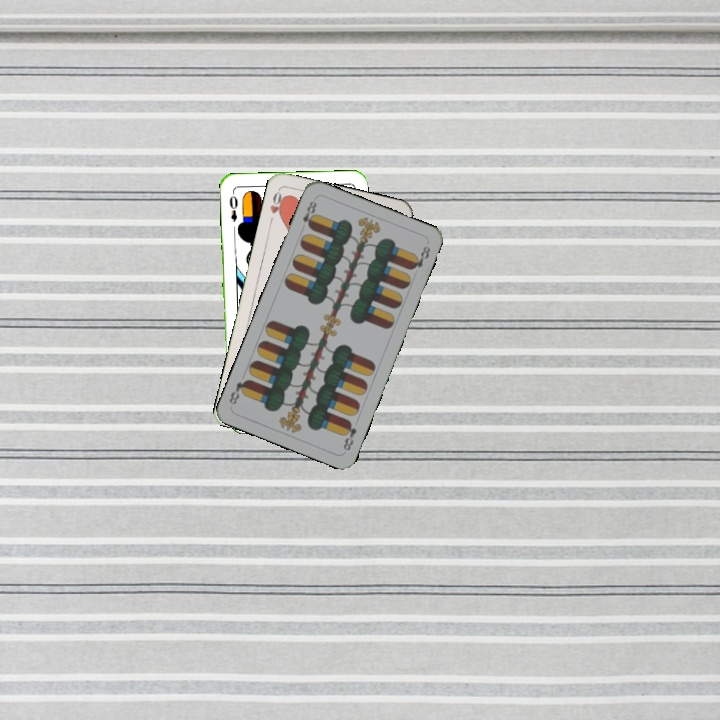E8: (339, 417, 359, 453), (298, 197, 319, 231)
EO: (225, 188, 240, 224)
HO: (265, 186, 288, 226)
